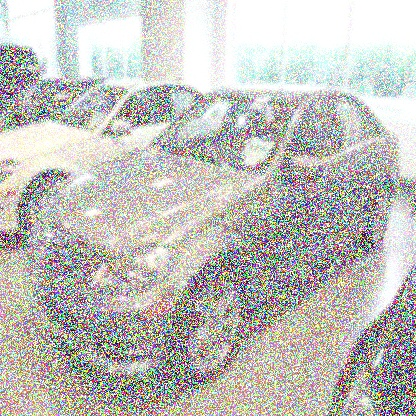Vehicle: (27, 87, 404, 392)
